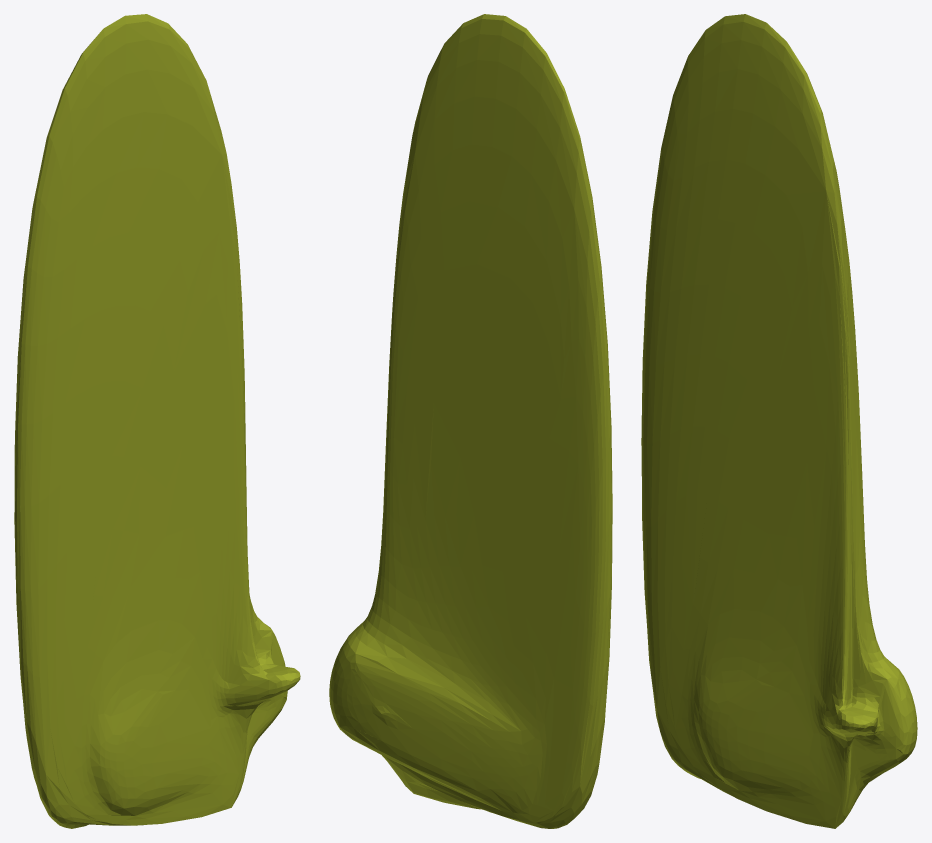
3 views of the same model, side by side, from view 1: azimuth 30°, elevation 25°; view 2: azimuth 150°, elevation 25°; view 3: azimuth 330°, elevation 25° (orthographic). The views are drawn at different scales.
Visible parts, largest first — view 1: 454_Cube.1839; view 2: 454_Cube.1839; view 3: 454_Cube.1839.
Part boxes in pixels (x1=…): 454_Cube.1839: x1=14, y1=14, x2=300, y2=828; 454_Cube.1839: x1=329, y1=14, x2=612, y2=828; 454_Cube.1839: x1=641, y1=14, x2=917, y2=828.
Size of the model in its own units: 3.91 by 11.08 by 1.31.
